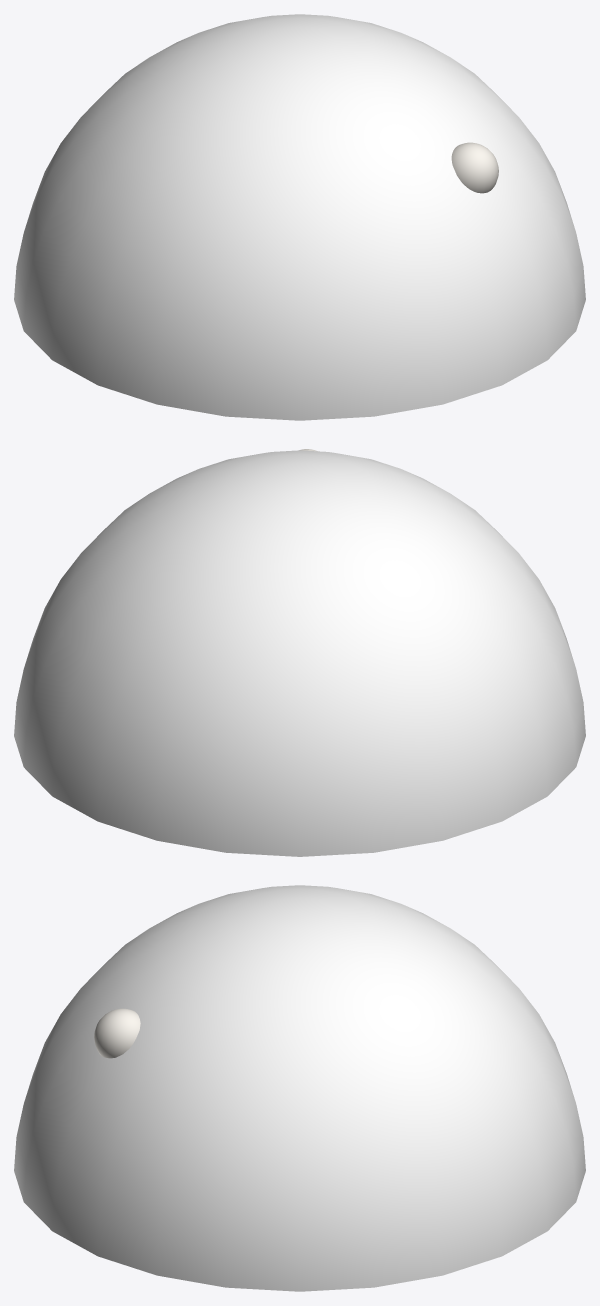
Rendered from capsule-lid.prefab.glb.
3 views of the same model, one above another, from view 1: azimuth 30°, elevation 25°; view 2: azimuth 150°, elevation 25°; view 3: azimuth 270°, elevation 25° (orthographic).
Visible parts, largest first — view 1: CapsuleLid_Batch0, CapsuleLid_Batch1; view 2: CapsuleLid_Batch0; view 3: CapsuleLid_Batch0, CapsuleLid_Batch1.
Part boxes in pixels (x1=…): CapsuleLid_Batch0: x1=14, y1=14, x2=585, y2=420; CapsuleLid_Batch1: x1=451, y1=142, x2=498, y2=193; CapsuleLid_Batch0: x1=14, y1=450, x2=585, y2=856; CapsuleLid_Batch0: x1=14, y1=885, x2=585, y2=1291; CapsuleLid_Batch1: x1=94, y1=1008, x2=140, y2=1058.
Bounding box in the file's own units: 0.047 × 0.0235 × 0.047.
2 materials, 2 textured.
